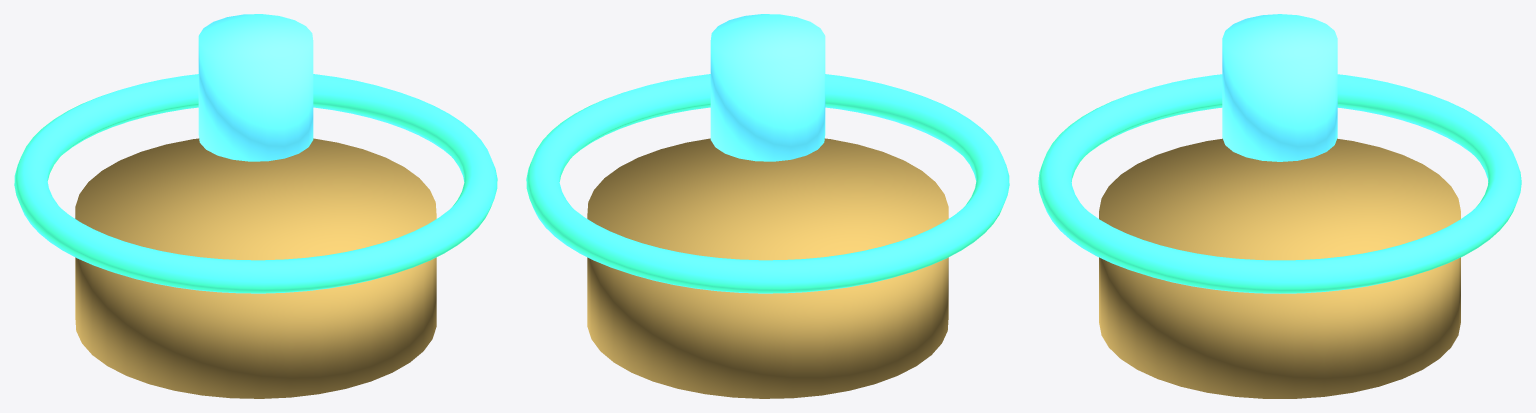
The model's file is L87_82_RingCertificationBeacon_Fitted.fbx.
3 views of the same model, side by side, from view 1: azimuth 30°, elevation 25°; view 2: azimuth 150°, elevation 25°; view 3: azimuth 270°, elevation 25° (orthographic).
Parts seen in each view (by area): view 1: L87_RingCertificationBeacon_ANIM_FINAL_CERTIFICATION__tintF5, L87_RingCertificationBeacon_ANIM_FINAL_CERTIFICATION__tint0F, L87_RingCertificationBeacon_ANIM_FINAL_CERTIFICATION__tint1C; view 2: L87_RingCertificationBeacon_ANIM_FINAL_CERTIFICATION__tintF5, L87_RingCertificationBeacon_ANIM_FINAL_CERTIFICATION__tint0F, L87_RingCertificationBeacon_ANIM_FINAL_CERTIFICATION__tint1C; view 3: L87_RingCertificationBeacon_ANIM_FINAL_CERTIFICATION__tintF5, L87_RingCertificationBeacon_ANIM_FINAL_CERTIFICATION__tint0F, L87_RingCertificationBeacon_ANIM_FINAL_CERTIFICATION__tint1C.
Part boxes in pixels (left/top/right/bottom): L87_RingCertificationBeacon_ANIM_FINAL_CERTIFICATION__tintF5: left=75, top=138, right=436, bottom=398; L87_RingCertificationBeacon_ANIM_FINAL_CERTIFICATION__tint0F: left=14, top=74, right=497, bottom=293; L87_RingCertificationBeacon_ANIM_FINAL_CERTIFICATION__tint1C: left=198, top=14, right=313, bottom=161; L87_RingCertificationBeacon_ANIM_FINAL_CERTIFICATION__tintF5: left=587, top=138, right=948, bottom=398; L87_RingCertificationBeacon_ANIM_FINAL_CERTIFICATION__tint0F: left=526, top=74, right=1009, bottom=293; L87_RingCertificationBeacon_ANIM_FINAL_CERTIFICATION__tint1C: left=710, top=14, right=825, bottom=161; L87_RingCertificationBeacon_ANIM_FINAL_CERTIFICATION__tintF5: left=1099, top=138, right=1460, bottom=398; L87_RingCertificationBeacon_ANIM_FINAL_CERTIFICATION__tint0F: left=1038, top=74, right=1521, bottom=293; L87_RingCertificationBeacon_ANIM_FINAL_CERTIFICATION__tint1C: left=1222, top=14, right=1337, bottom=161.
Bounding box in the file's own units: 16.93 × 10.99 × 16.93.
